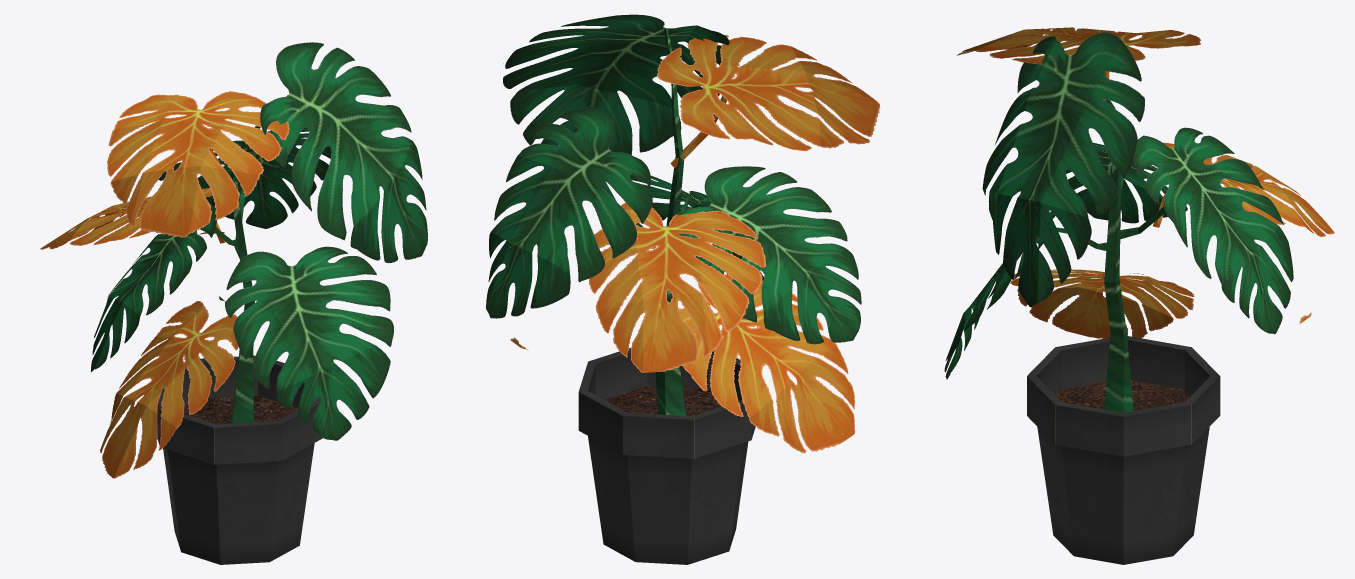
File: Plant.fbx
3 renders of one model, left to right at view 1: azimuth 30°, elevation 25°; view 2: azimuth 150°, elevation 25°; view 3: azimuth 270°, elevation 25°, orthographic. The views are drawn at different scales.
Parts seen in each view (by area): view 1: Plant, Flowerpot, Deadplant_03, Deadplant_01, Deadplant_02; view 2: Plant, Flowerpot, Deadplant_02, Deadplant_03, Deadplant_01; view 3: Plant, Flowerpot, Deadplant_01, Deadplant_03, Deadplant_02.
Boxes of the visible parts, left/top/right/bottom form: Plant: left=91, top=42, right=427, bottom=440; Flowerpot: left=157, top=355, right=322, bottom=564; Deadplant_03: left=107, top=91, right=289, bottom=237; Deadplant_01: left=100, top=296, right=238, bottom=478; Deadplant_02: left=40, top=188, right=225, bottom=249; Plant: left=486, top=14, right=861, bottom=415; Flowerpot: left=578, top=348, right=755, bottom=564; Deadplant_02: left=589, top=199, right=766, bottom=372; Deadplant_03: left=657, top=35, right=880, bottom=168; Deadplant_01: left=667, top=274, right=855, bottom=453; Plant: left=944, top=32, right=1311, bottom=412; Flowerpot: left=1027, top=336, right=1220, bottom=564; Deadplant_01: left=1010, top=269, right=1194, bottom=338; Deadplant_03: left=956, top=27, right=1200, bottom=78; Deadplant_02: left=1145, top=142, right=1334, bottom=237.
Bounding box in the file's own units: 103 × 131 × 95.83.
